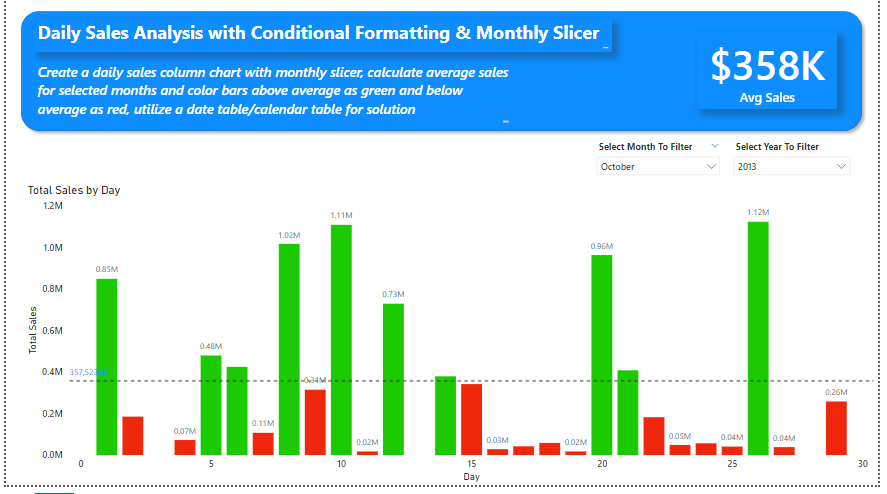

What the dashboard file says about the page in this screenshot:
{"tool":"powerbi","page":{"name":"Page 1","canvas":[1280,720],"ordinal":0},"visuals":[{"type":"columnChart","fields":{"Y":["financials.Total Sales"],"Category":["Date Table.New Day"]},"box":[26.4,276.2,1253.4,443.8],"z":0},{"type":"slicer","fields":{"Values":["Date Table.New Month"]},"box":[858.1,208.7,201.3,85.2],"z":1000},{"type":"shape","box":[13.2,14.7,1253.4,194],"z":2000},{"type":"textbox","title":"Daily Sales Analysis with Conditional Formatting & Monthly Slicer","box":[41.1,35.3,849.3,48.5],"z":3000},{"type":"textbox","title":"Create a daily sales column chart with monthly slicer, calculate average sales for selected months and color bars above average as green and below average as red, utilize a date table/calendar table f","box":[41.1,98.4,702.4,94],"z":4000},{"type":"card","fields":{"Values":["financials.Avg Sales"]},"box":[1015.3,54.4,205.7,113.1],"z":5000},{"type":"slicer","fields":{"Values":["Date Table.New Year"]},"box":[1059.4,208.7,191,85.2],"z":5001}]}

Visuals, with their boxes in screenshot pixels (x1, y1, x2, y2), scaled from the page's 1280x720 canvas onto the 887x494 screenshot:
columnChart - financials.Total Sales x Date Table.New Day: 18/190/886/493
slicer - Date Table.New Month: 595/143/734/202
shape: 9/10/878/143
"Daily Sales Analysis with Conditional Formatting & Monthly Slicer" textbox: 28/24/617/57
"Create a daily sales column chart with monthly slicer, calculate average sales for selected months and color bars above average as green and below average as red, utilize a date table/calendar table f" textbox: 28/68/515/132
card - financials.Avg Sales: 704/37/846/115
slicer - Date Table.New Year: 734/143/866/202
